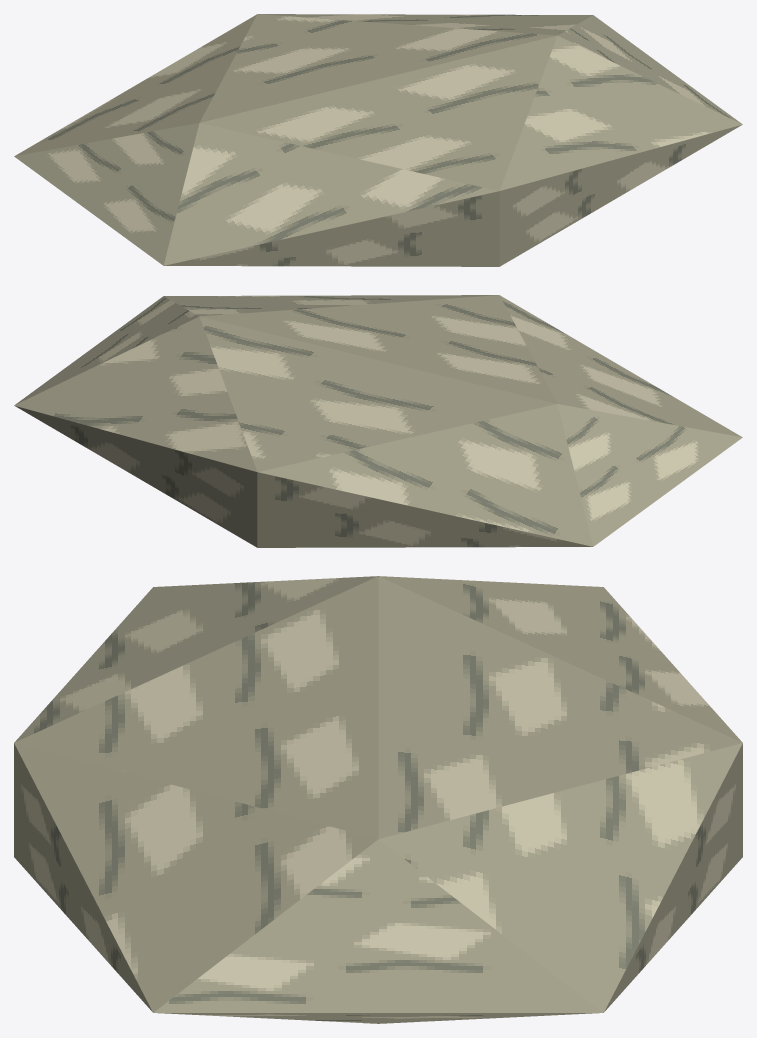
File: pedra-laje-v01.gltf
3 renders of one model, top to bottom at view 1: azimuth 30°, elevation 25°; view 2: azimuth 150°, elevation 25°; view 3: azimuth 270°, elevation 25°, orthographic. The views are drawn at different scales.
Parts seen in each view (by area): view 1: forma; view 2: forma; view 3: forma.
Boxes of the visible parts, x1,y1,x2,y2 form: forma: (14, 14, 742, 266); forma: (14, 295, 742, 547); forma: (14, 576, 742, 1023).
Size of the model in its own units: 1.6 by 0.3232 by 1.16.
1 material, 1 textured.
